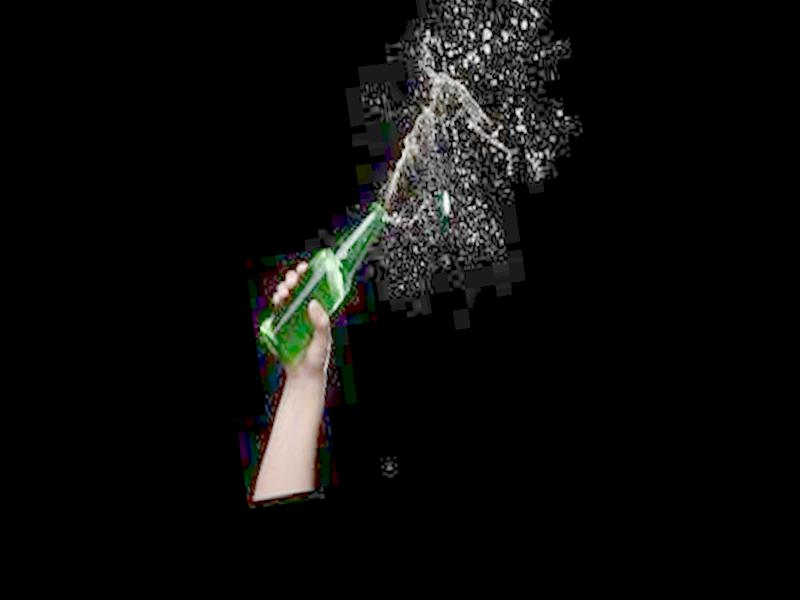Beer: (242, 204, 406, 374)
